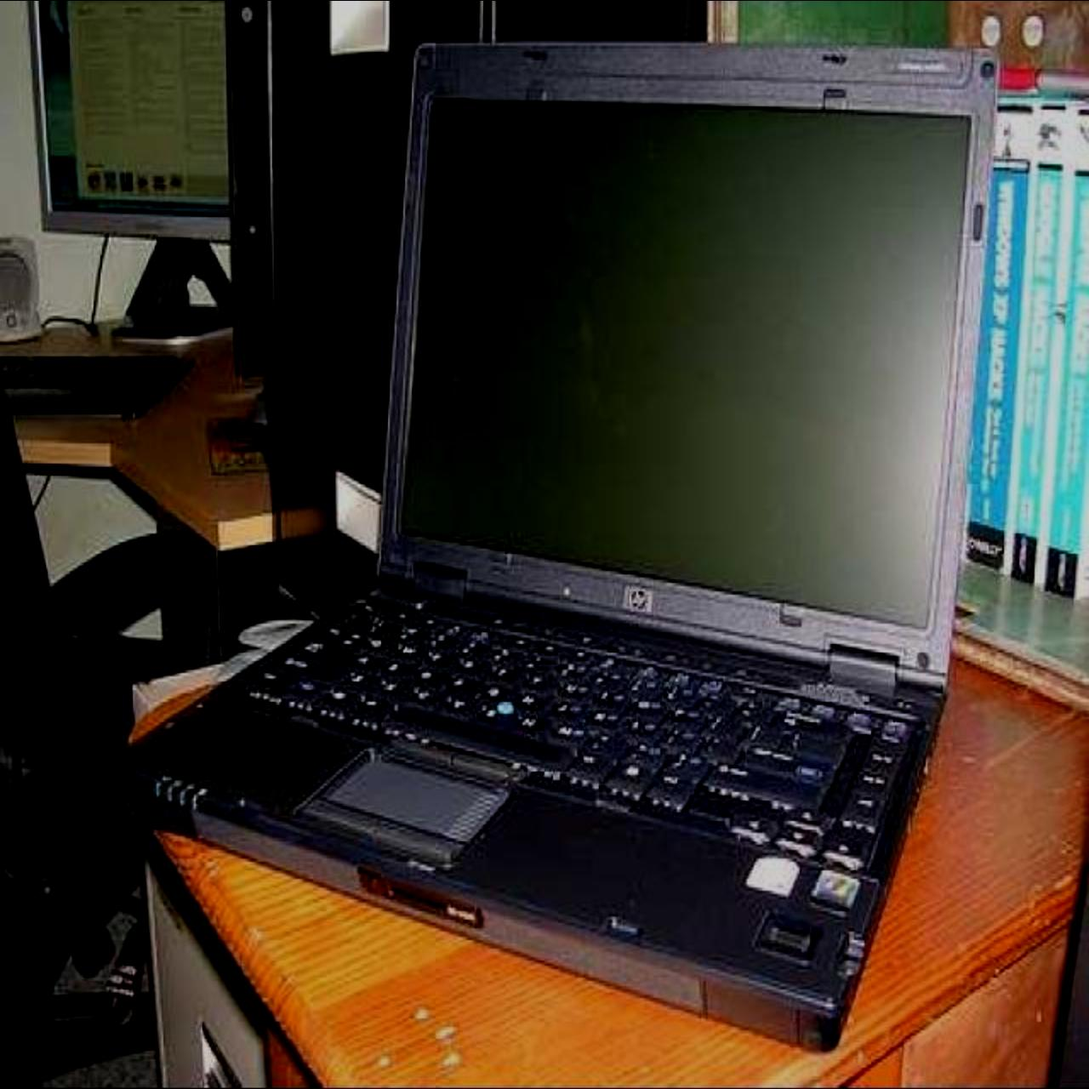laptop: (197, 42, 1001, 1034)
